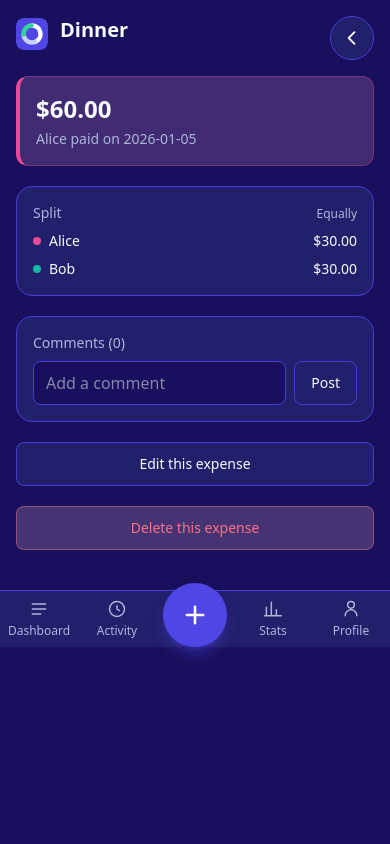
ExpenseView comments › deletes it
In the field with placeholder "Add a comment": (160, 383) [33,361,286,405], type "Mine"
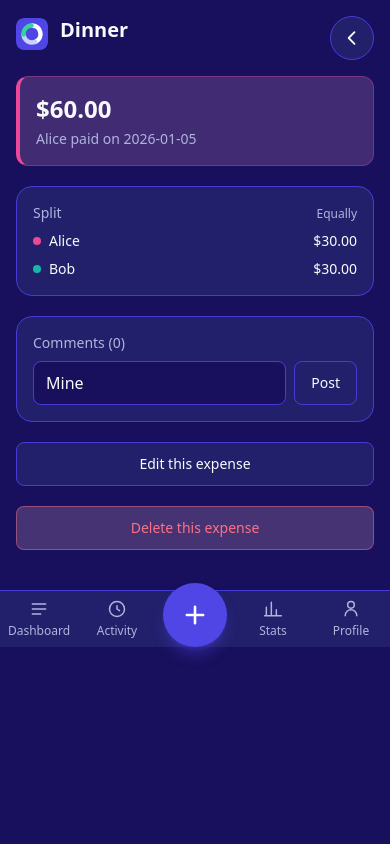
Submit the form, box [33,361,357,405]
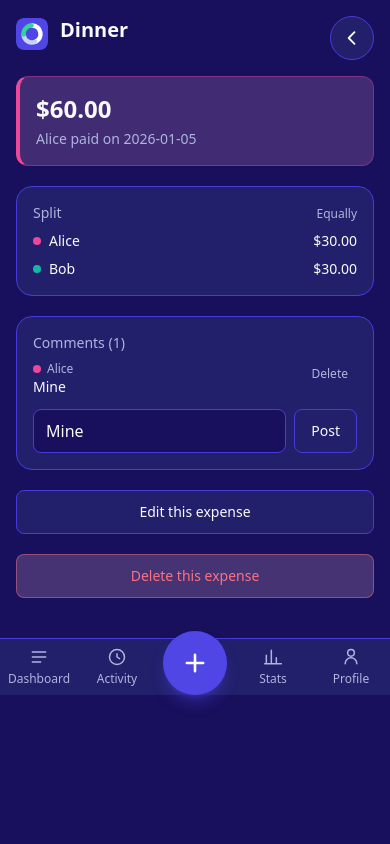
Click the button with test id "delete-comment": (330, 374) [302,361,357,387]
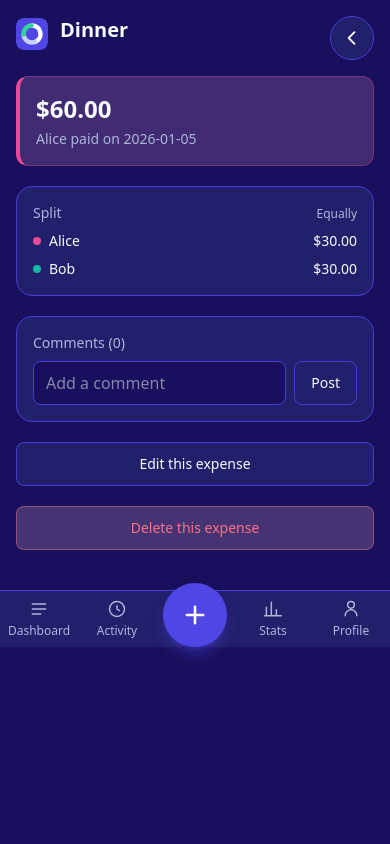
Now the text "Comments (0)" is shown, box [33,333,125,352]
